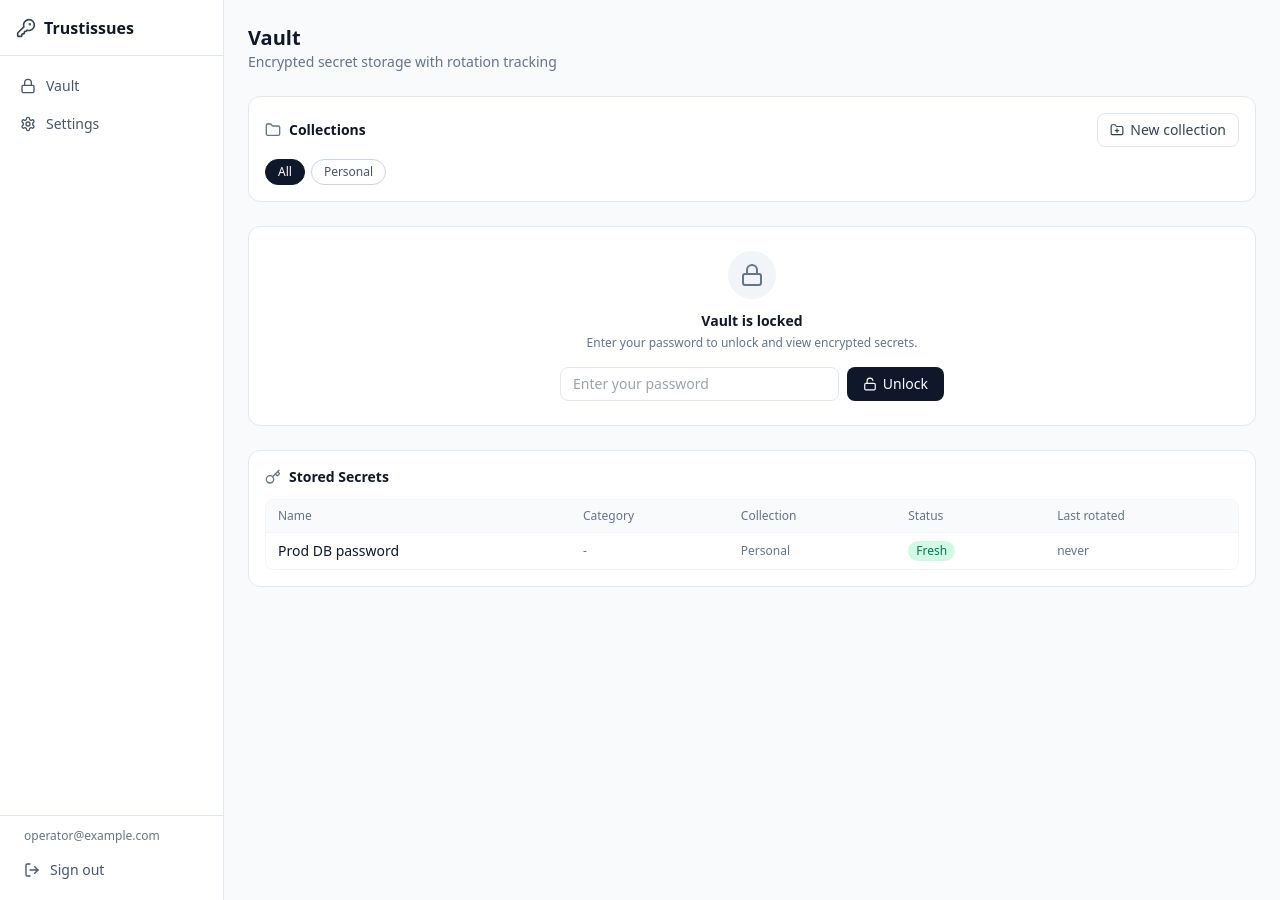
Scenario: locking the vault clears the real mutation cache, not just component state › lock drops the decrypted values and the account password from the mutation cache, the DOM, and the re-shown password field
Expected: the heading "Vault" is shown, left=248, top=24, right=301, bottom=51
Type "hunter2-the-real-account-password" into the password field with placeholder "Enter your password". click: (699, 384)
box: left=560, top=367, right=839, bottom=401
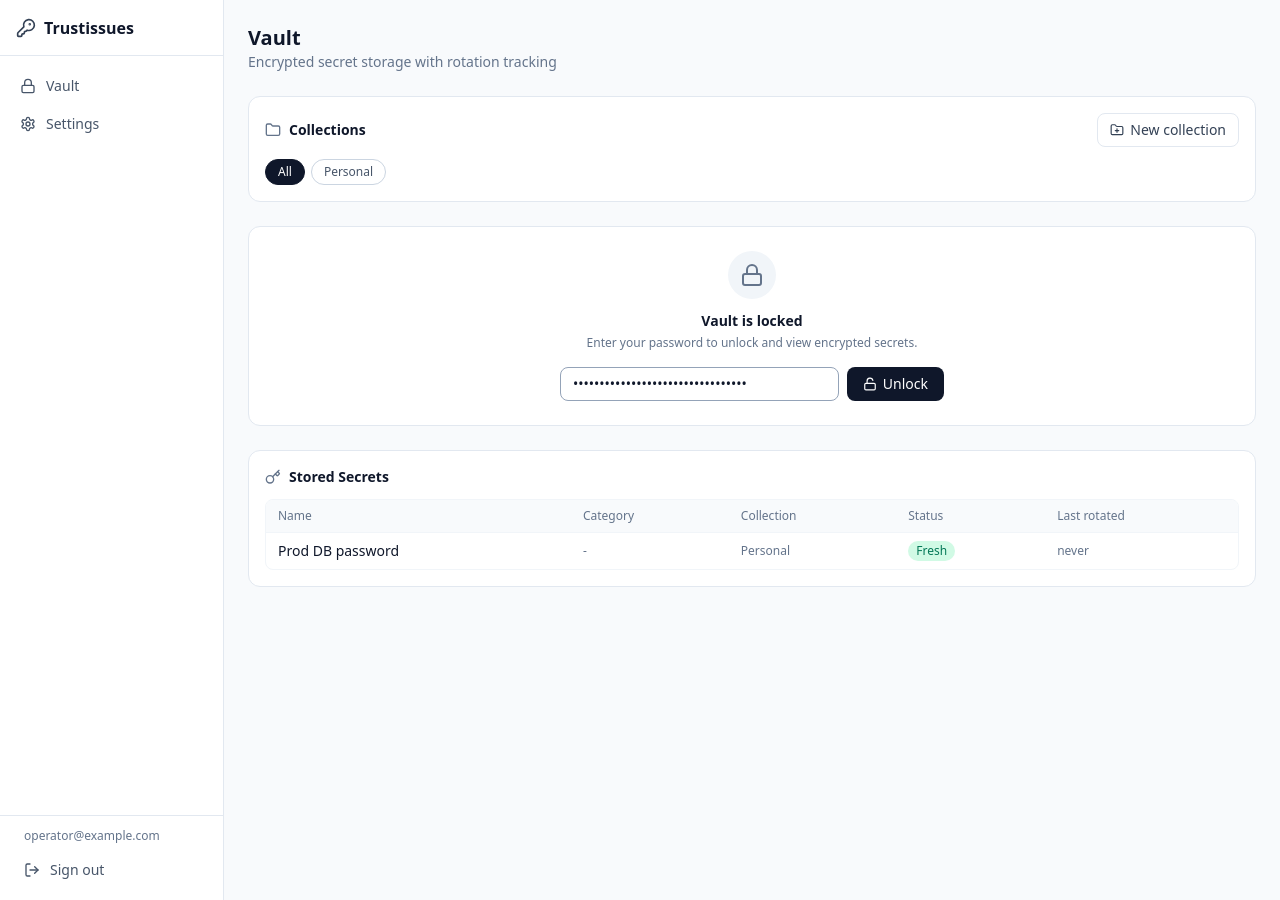
Click the button "Unlock". click: (895, 384)
box: left=847, top=367, right=944, bottom=401
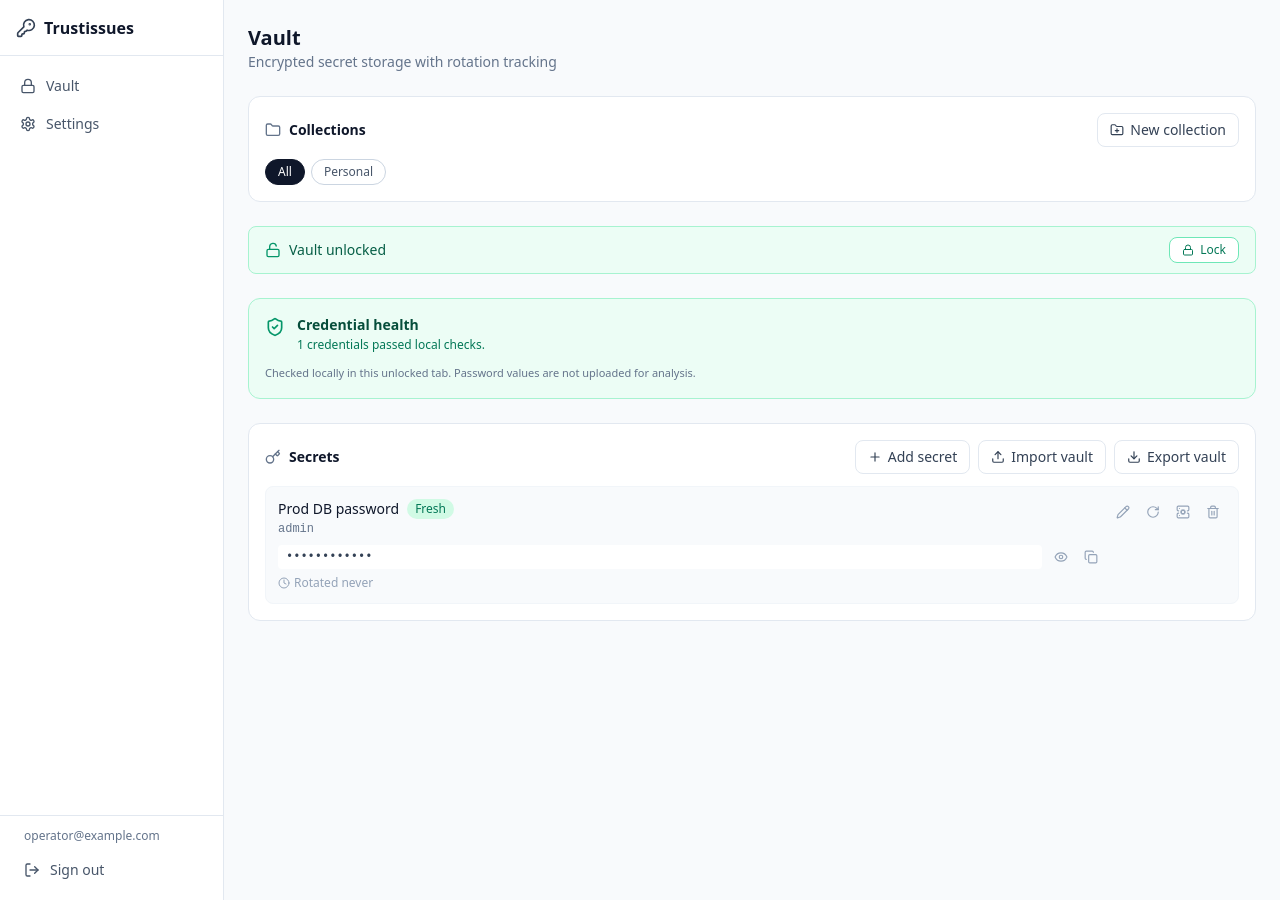
Expected: the text "Prod DB password" is shown, left=278, top=498, right=399, bottom=518
Click the button titled "Rotate secret". click: (1153, 512)
box: left=1140, top=498, right=1166, bottom=524
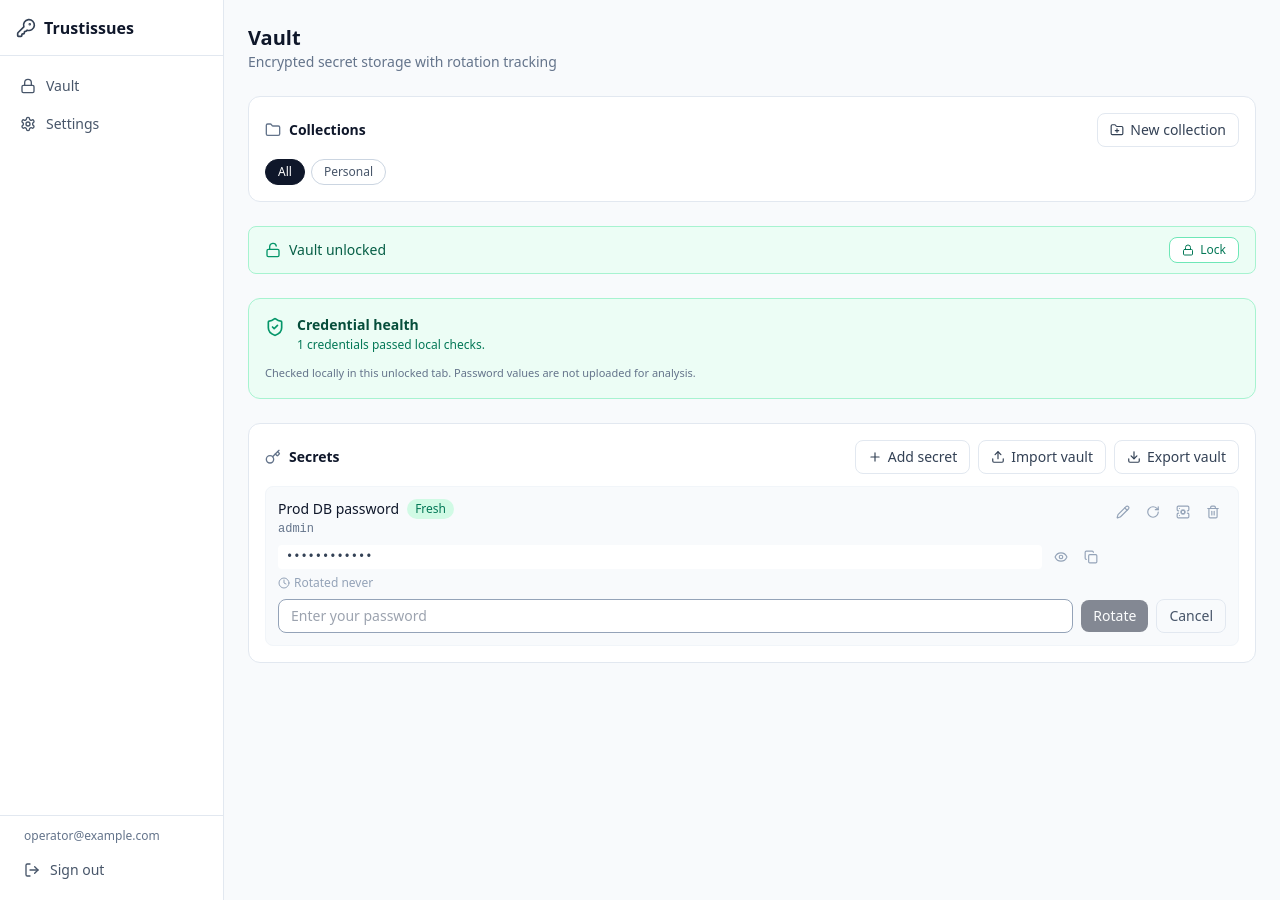
Type "hunter2-the-real-account-password" into the password field with placeholder "Enter your password". click: (676, 616)
box: left=278, top=598, right=1073, bottom=632
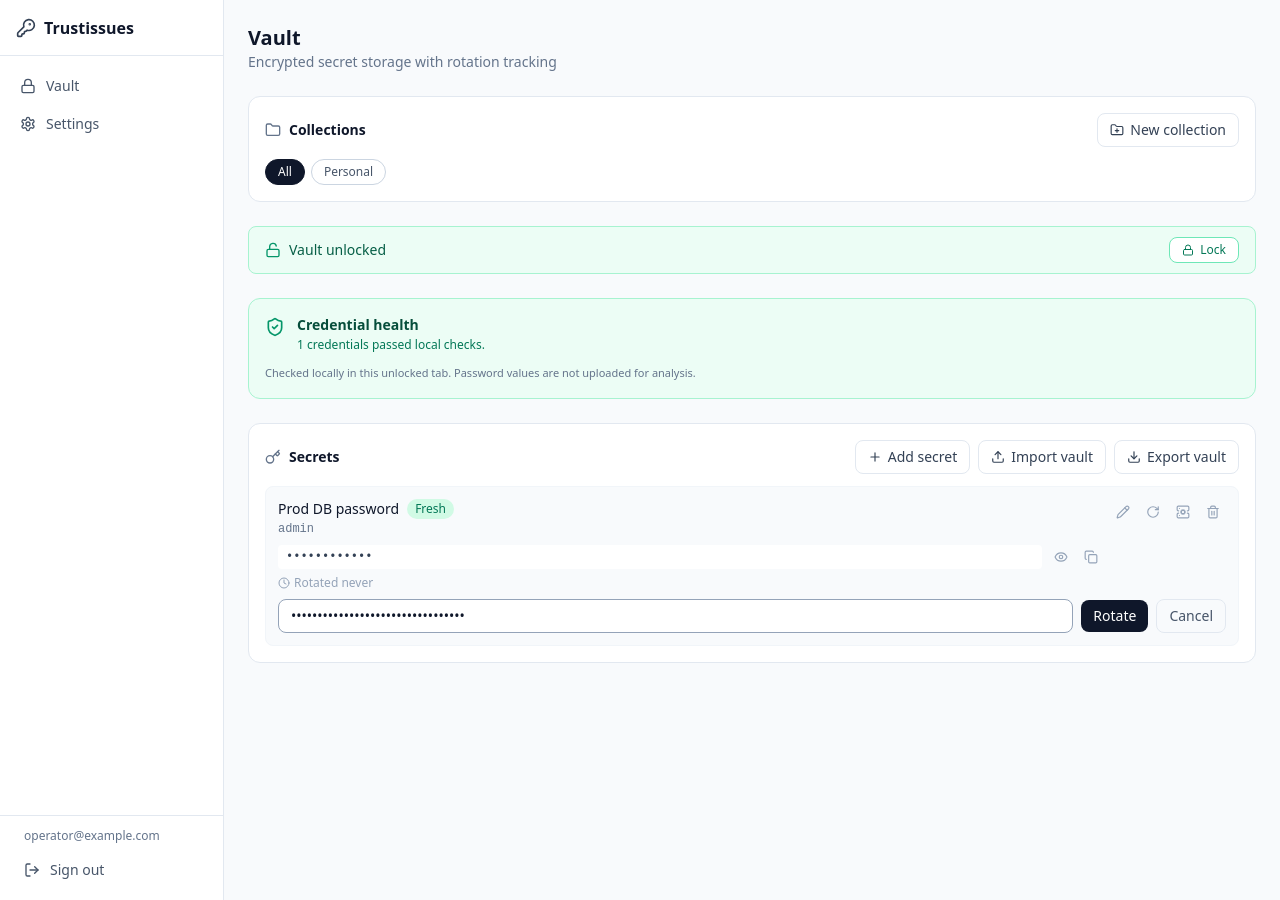
Click the button "Rotate". click: (1115, 616)
box: left=1081, top=600, right=1148, bottom=632
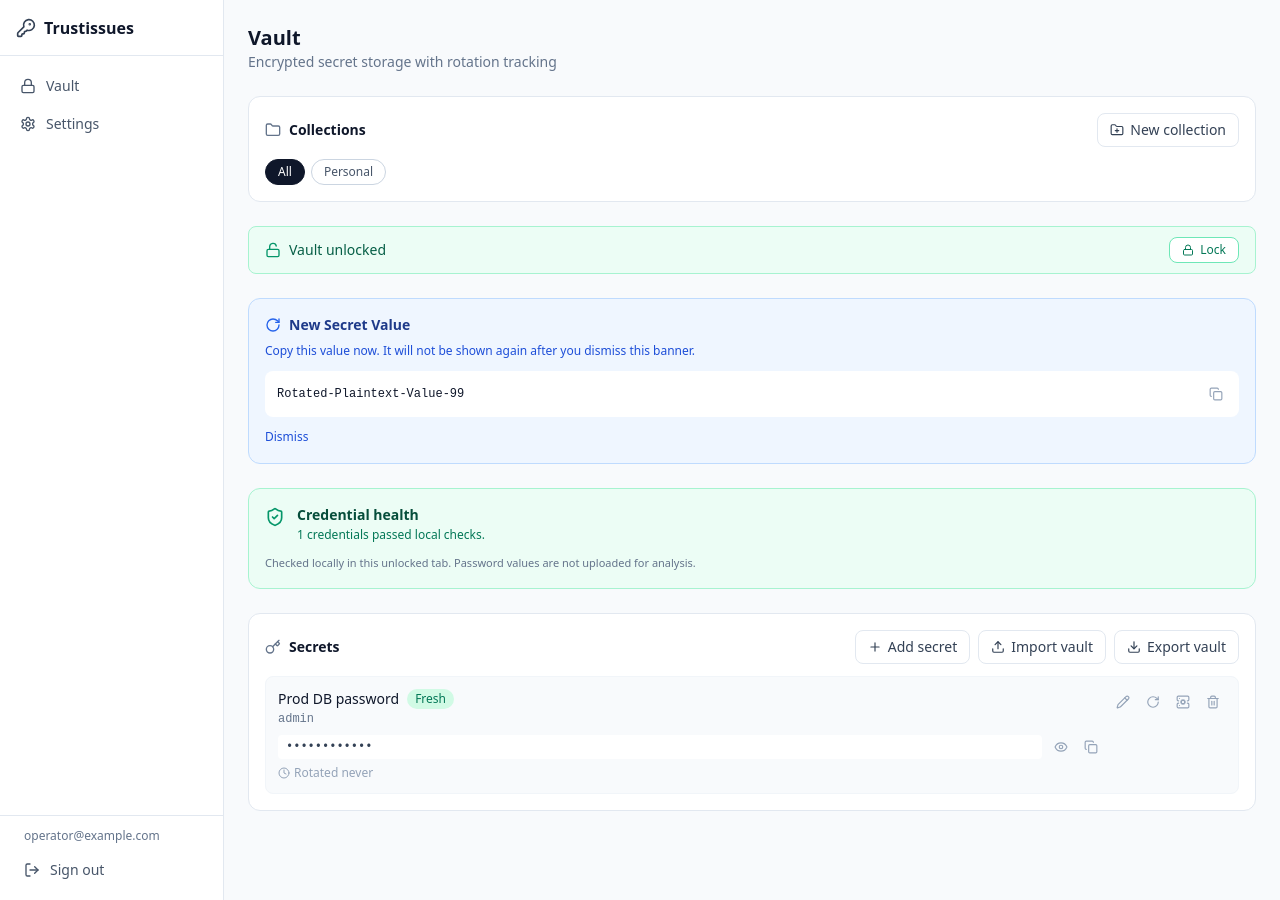
Expected: the text "Rotated-Plaintext-Value-99" is shown, left=277, top=387, right=464, bottom=401
Click the button "Lock". click: (1204, 250)
box: left=1169, top=237, right=1239, bottom=263
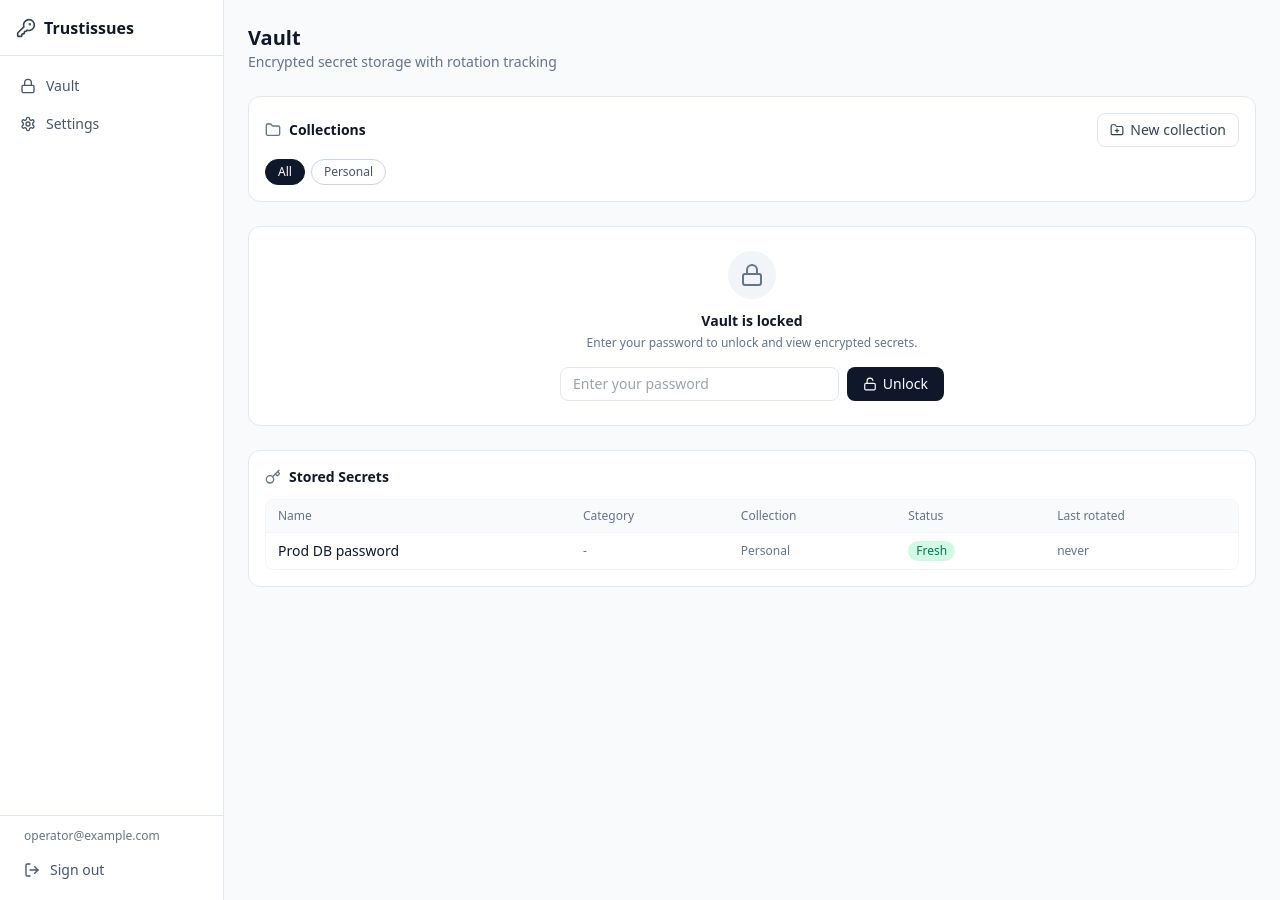
Expected: the password field with placeholder "Enter your password" is empty, left=560, top=367, right=839, bottom=401
Expected: the text "Rotated-Plaintext-Value-99" is gone
